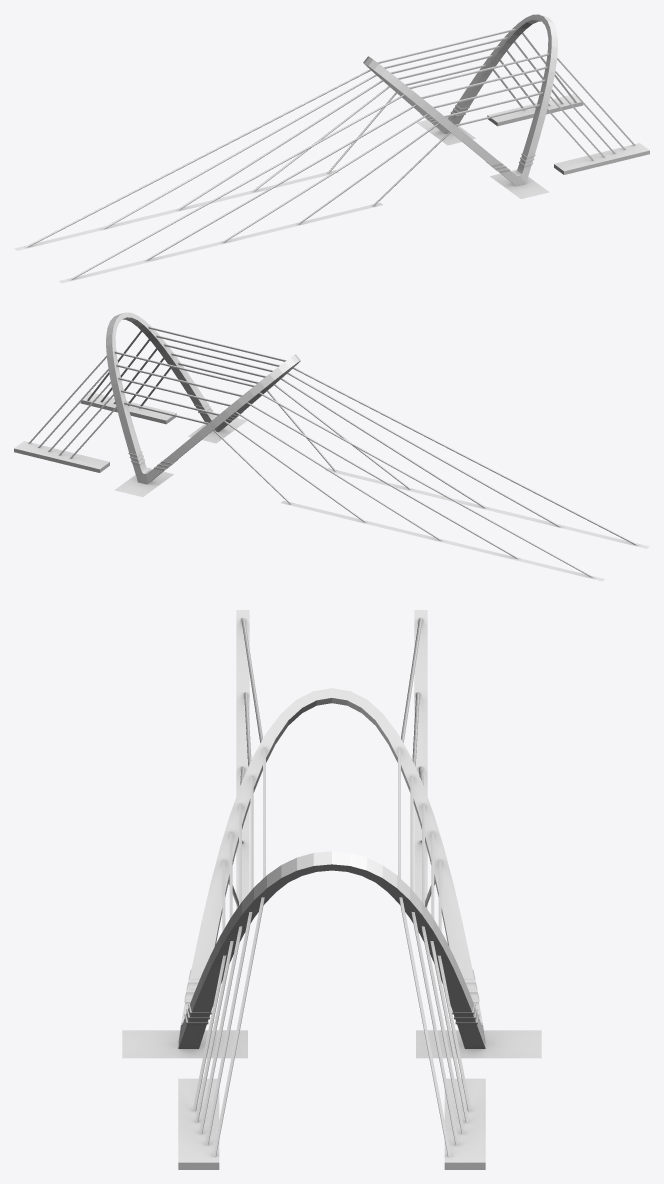
File: lazarevsky.dae
3 views of the same model, one above another, from view 1: azimuth 30°, elevation 25°; view 2: azimuth 150°, elevation 25°; view 3: azimuth 270°, elevation 25° (orthographic). The views are drawn at different scales.
Parts seen in each view (by area): view 1: lazarevsky; view 2: lazarevsky; view 3: lazarevsky.
Part boxes in pixels (<box>): lazarevsky: <box>14,14,649,283</box>; lazarevsky: <box>14,312,649,581</box>; lazarevsky: <box>122,610,541,1169</box>.
Bounding box in the file's own units: 0.1989 × 0.0629 × 0.0418.
1 material, 1 textured.
